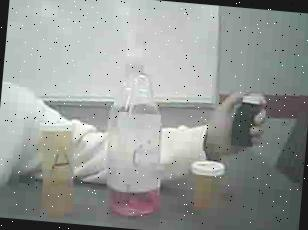Bottle A: (28, 116, 89, 220)
Bottle B: (184, 157, 227, 218)
Bottle C: (226, 85, 271, 151)
hazard: (98, 16, 186, 224)
